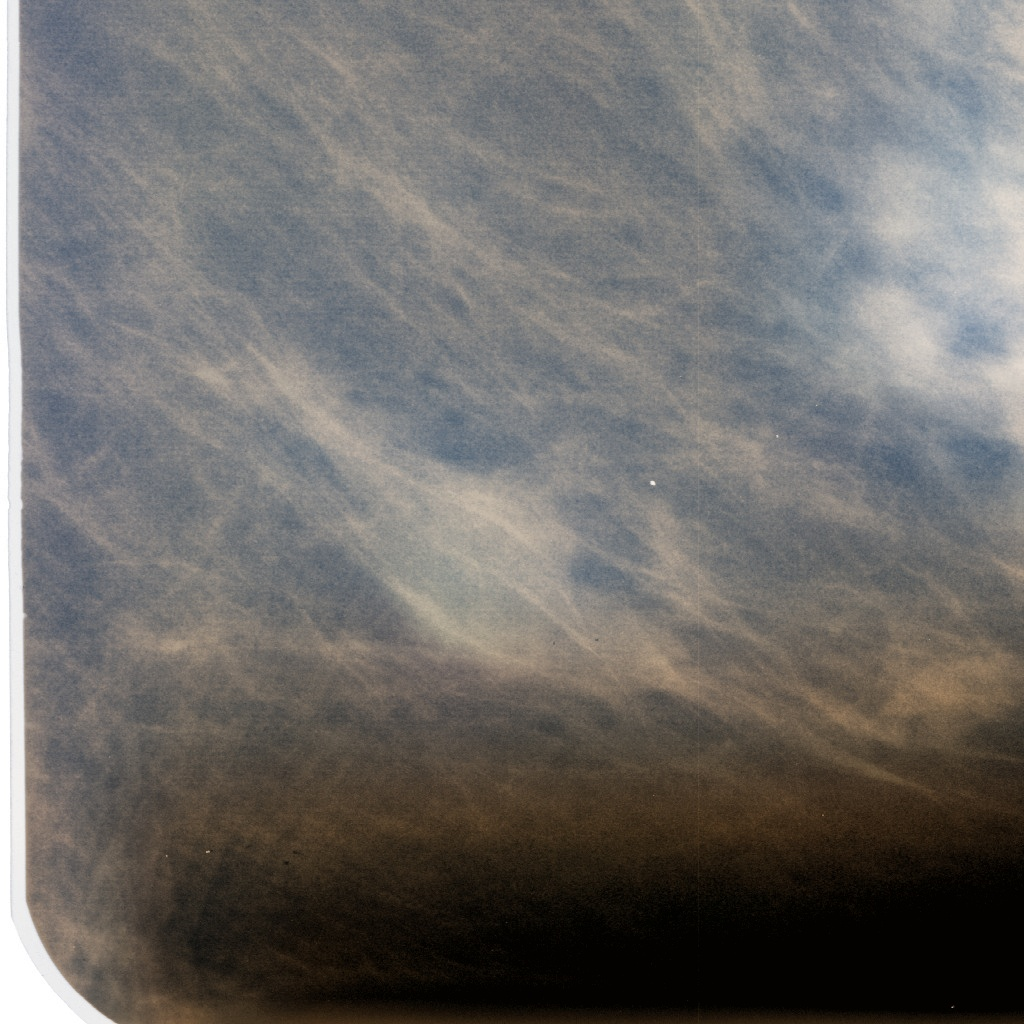tumor: (282, 366, 584, 658)
